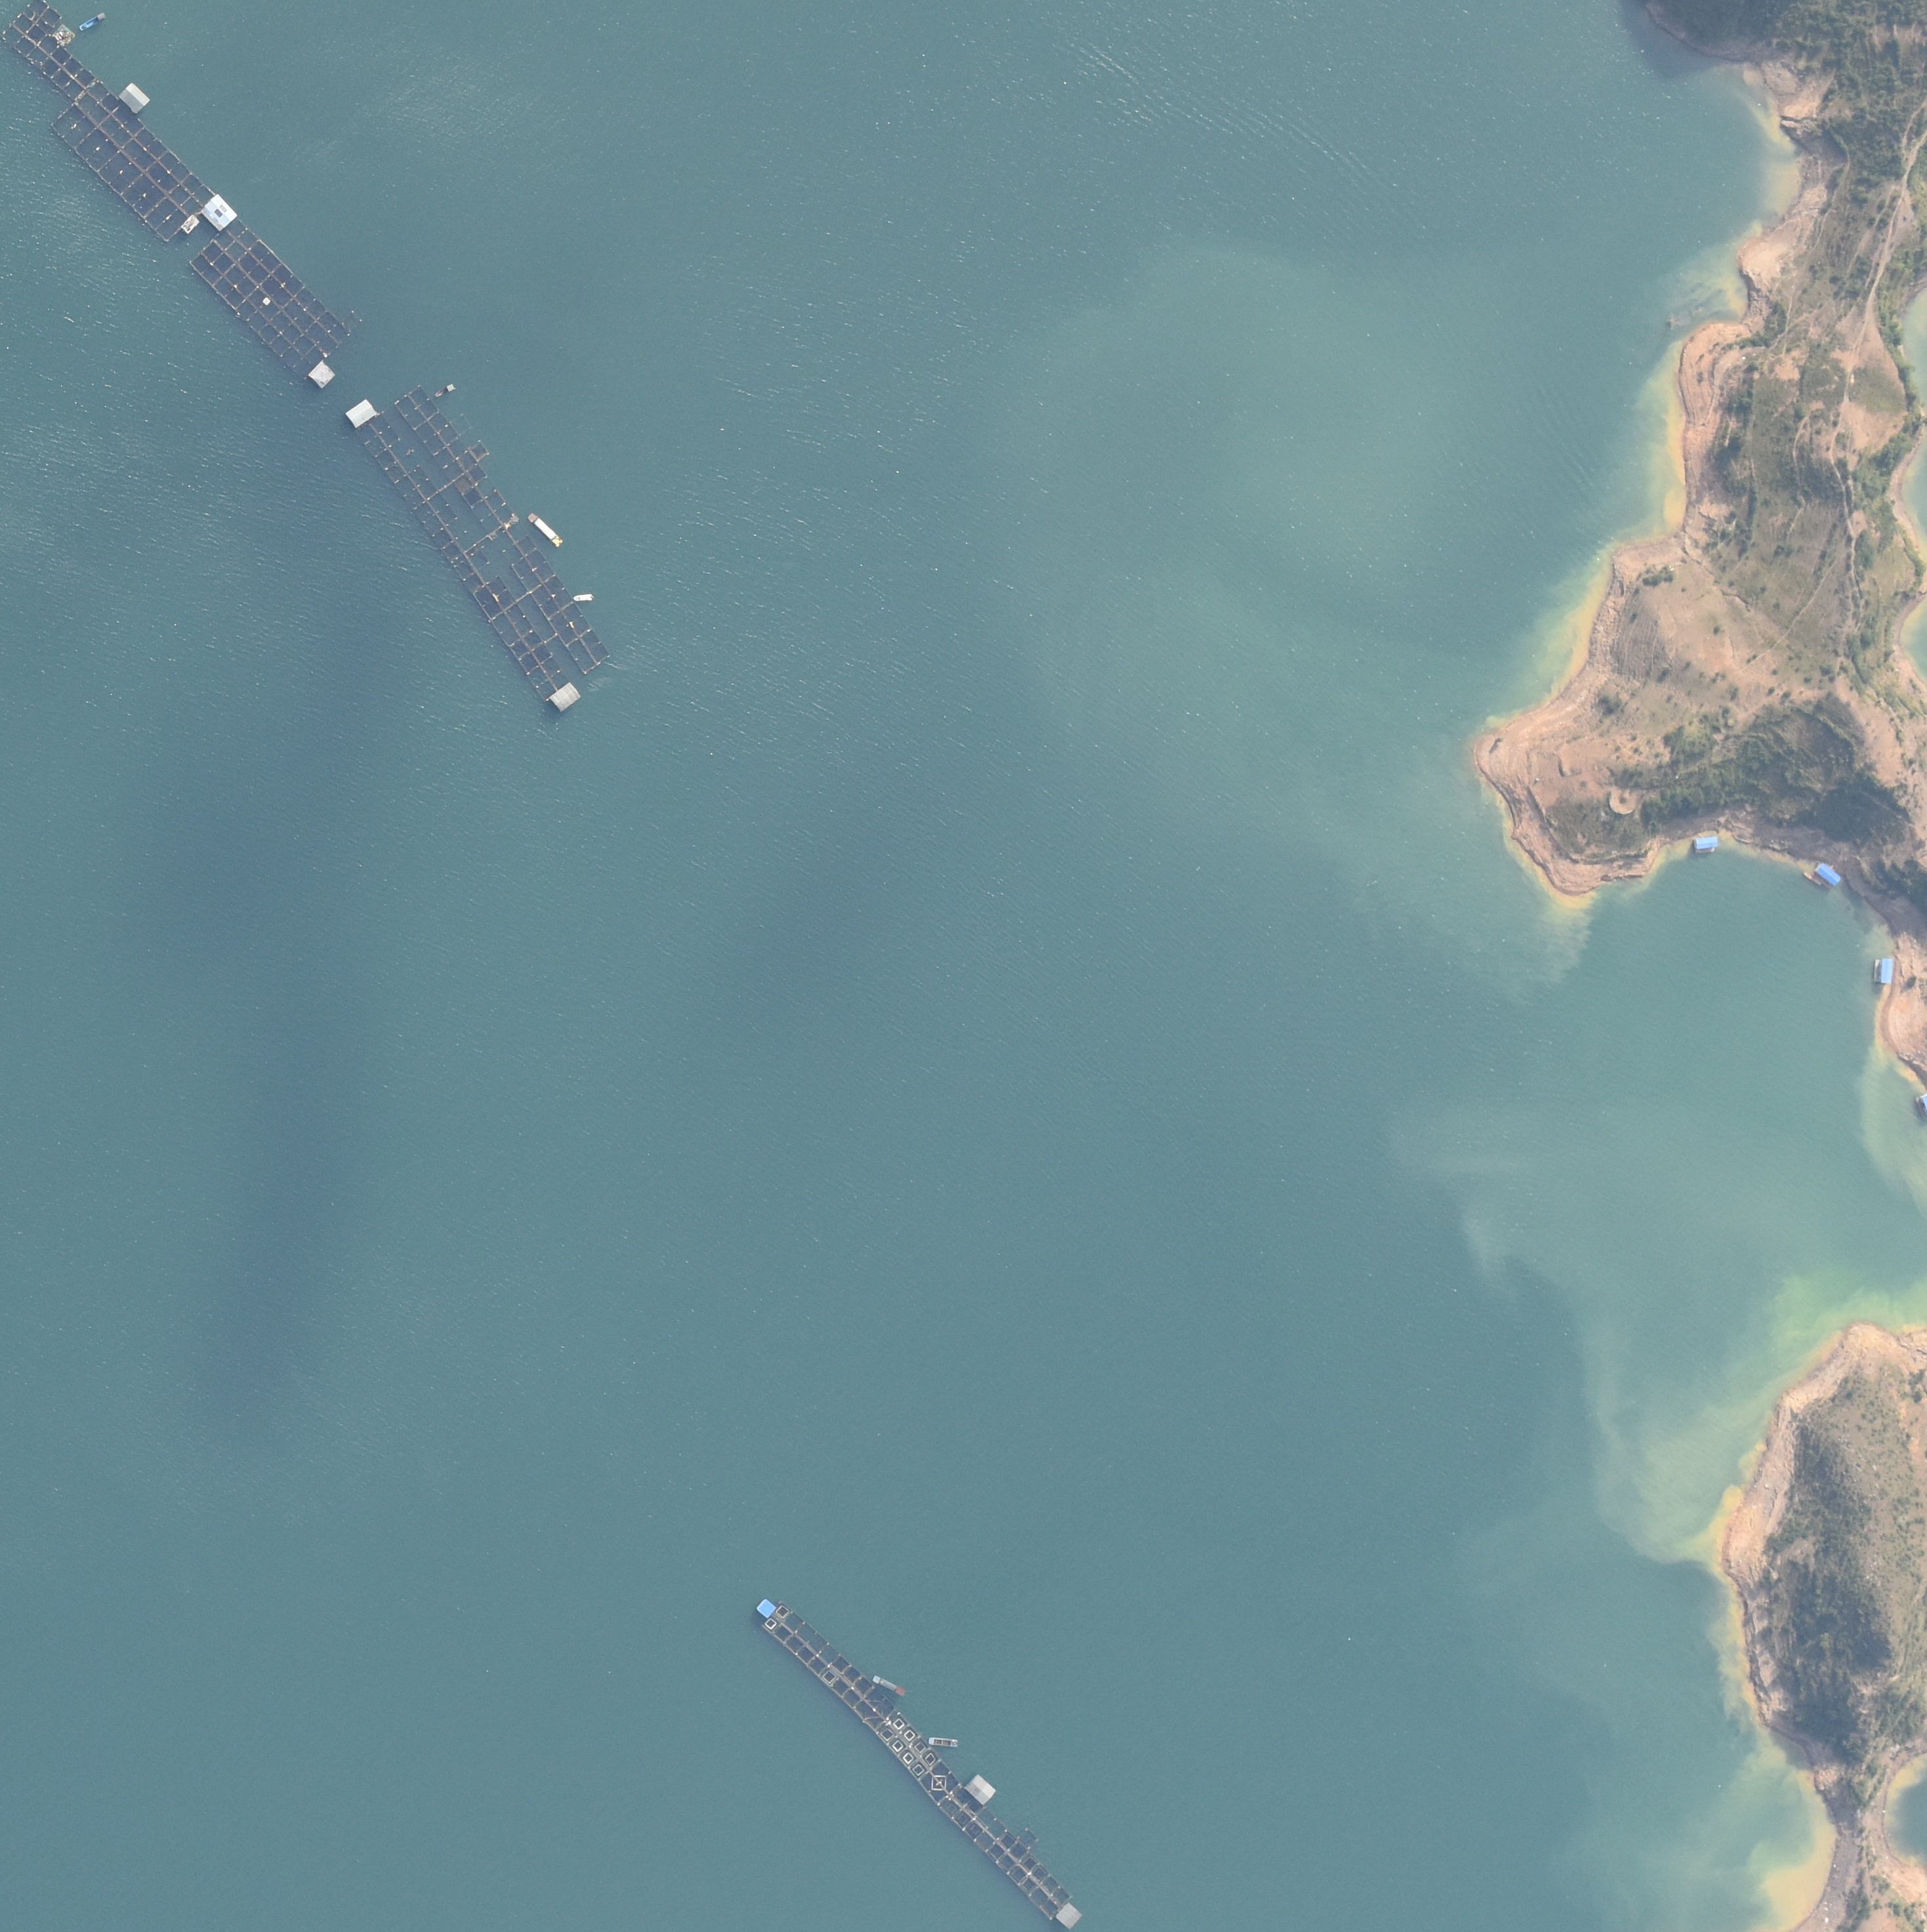cultivation-mesh-cage: (762, 1604, 1072, 1921), (356, 388, 615, 703), (1, 1, 213, 243), (192, 220, 357, 379)
prefabricated-house: (199, 193, 237, 230), (346, 397, 379, 427), (963, 1777, 997, 1805), (119, 83, 150, 112), (310, 361, 337, 390), (1056, 1901, 1082, 1929), (1812, 863, 1840, 888), (1875, 956, 1892, 984), (1693, 836, 1718, 853), (756, 1600, 775, 1617), (181, 215, 198, 233)
ship: (528, 511, 564, 548), (552, 683, 581, 712), (871, 1674, 905, 1698), (79, 12, 104, 31), (928, 1735, 959, 1750), (434, 380, 457, 398), (572, 592, 597, 602)
